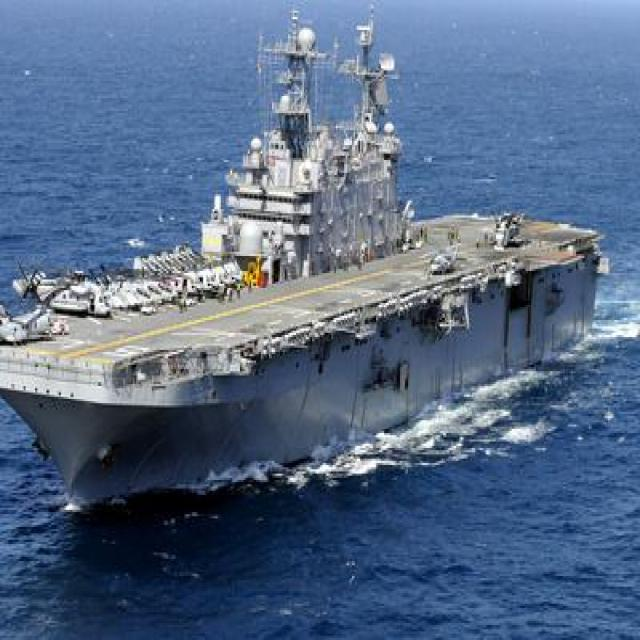navalvessels: (9, 57, 640, 518)
